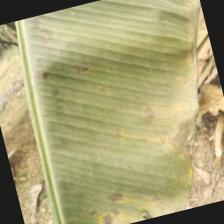pestalotiopsis: (3, 0, 224, 224)
